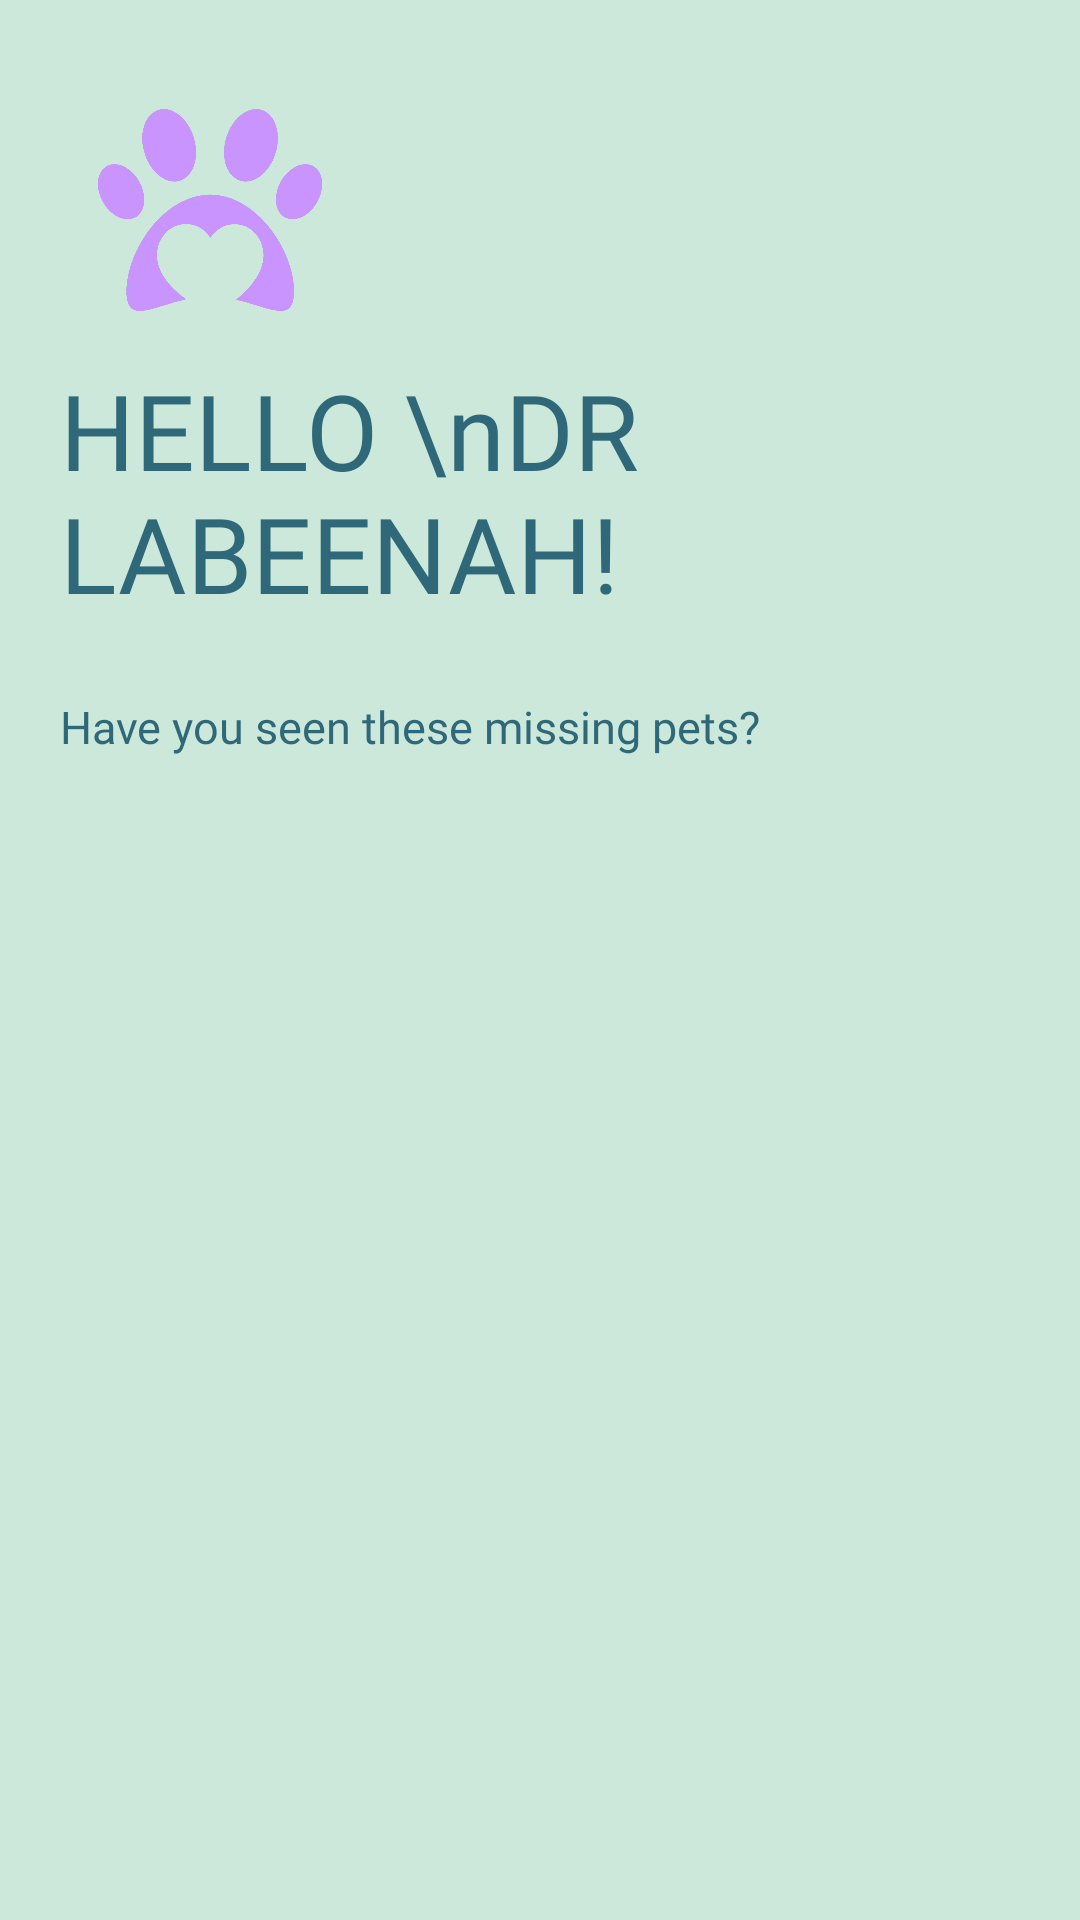

Icon bounding boxes for this 1080 x 1920 phone screenshot, format (x1, y1, x2, y2):
paw: (98, 109, 322, 311)
